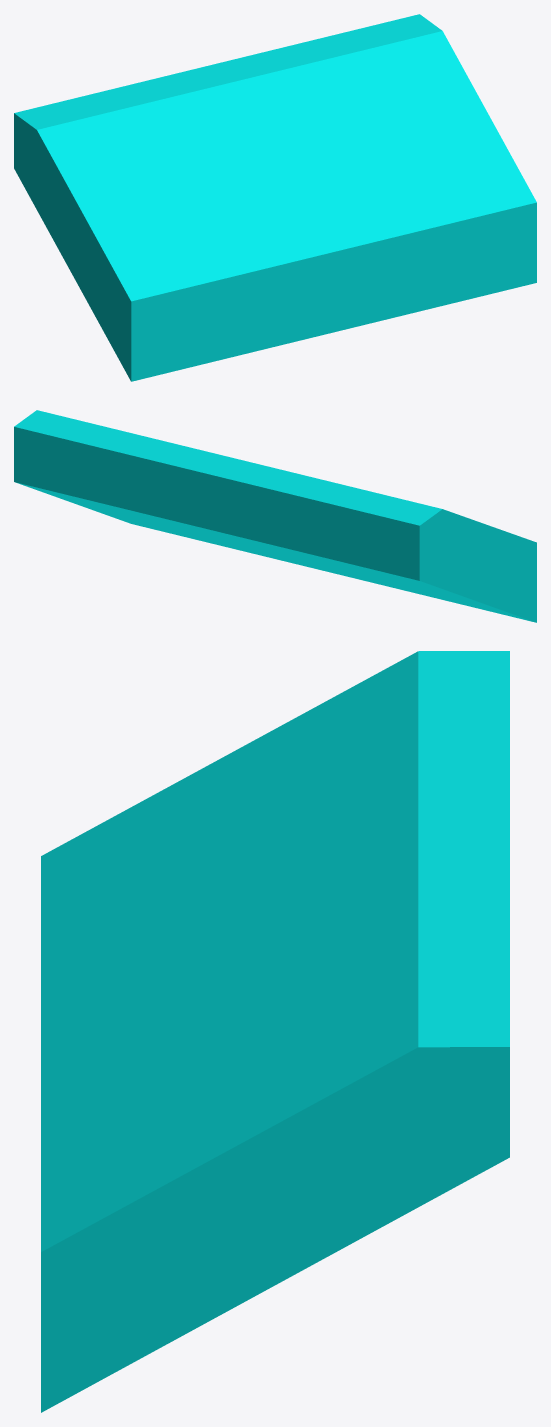
File: SM_Bld_Stairs_Half_01_Collision.fbx
3 views of the same model, one above another, from view 1: azimuth 30°, elevation 25°; view 2: azimuth 150°, elevation 25°; view 3: azimuth 270°, elevation 25° (orthographic). The views are drawn at different scales.
Visible parts, largest first — view 1: SM_Bld_Stairs_Half_01_Collision; view 2: SM_Bld_Stairs_Half_01_Collision; view 3: SM_Bld_Stairs_Half_01_Collision.
Part boxes in pixels (x1,y1,x2,y2): SM_Bld_Stairs_Half_01_Collision: [14, 14, 536, 381]; SM_Bld_Stairs_Half_01_Collision: [14, 410, 536, 622]; SM_Bld_Stairs_Half_01_Collision: [41, 651, 509, 1412].
Bounding box in the file's own units: 250 × 108 × 125.
